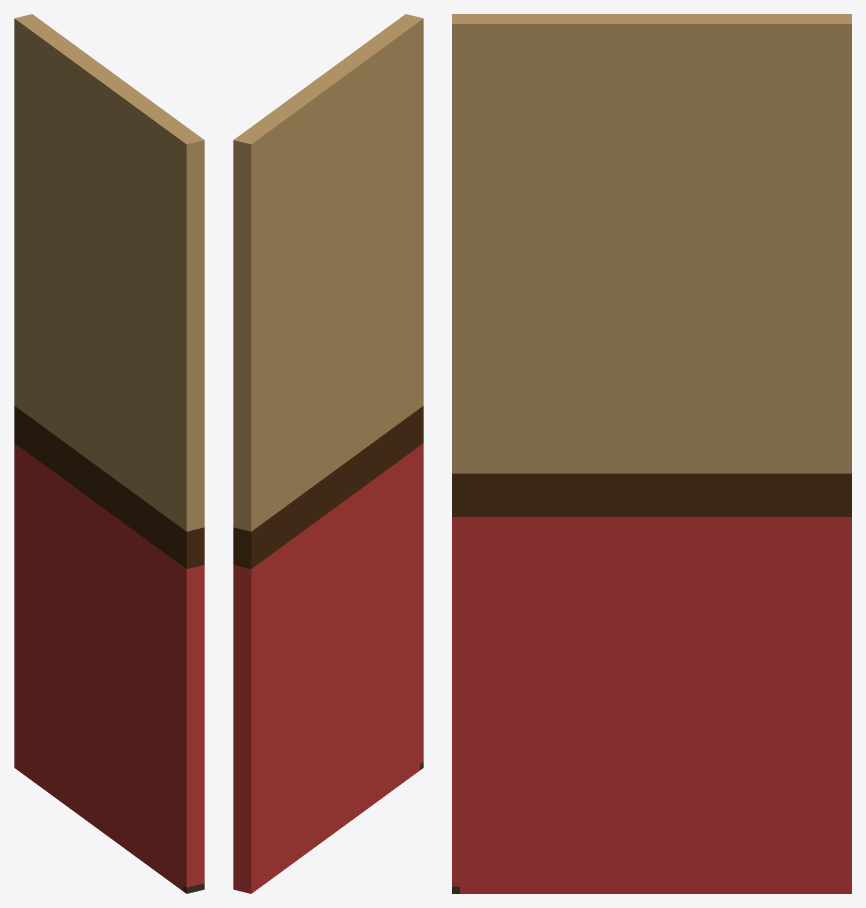
The model's file is SchoolPack-4-straight wall.obj.
3 renders of one model, left to right at view 1: azimuth 30°, elevation 25°; view 2: azimuth 150°, elevation 25°; view 3: azimuth 270°, elevation 25°, orthographic. The views are drawn at different scales.
Parts seen in each view (by area): view 1: straight wall; view 2: straight wall; view 3: straight wall.
Boxes of the visible parts, x1,y1,x2,y2 form: straight wall: [14, 14, 204, 893]; straight wall: [233, 14, 423, 893]; straight wall: [452, 14, 851, 893].
Bounding box in the file's own units: 0.3 × 12 × 5.
1 material, 1 textured.
